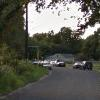Car: (69, 57, 99, 75)
